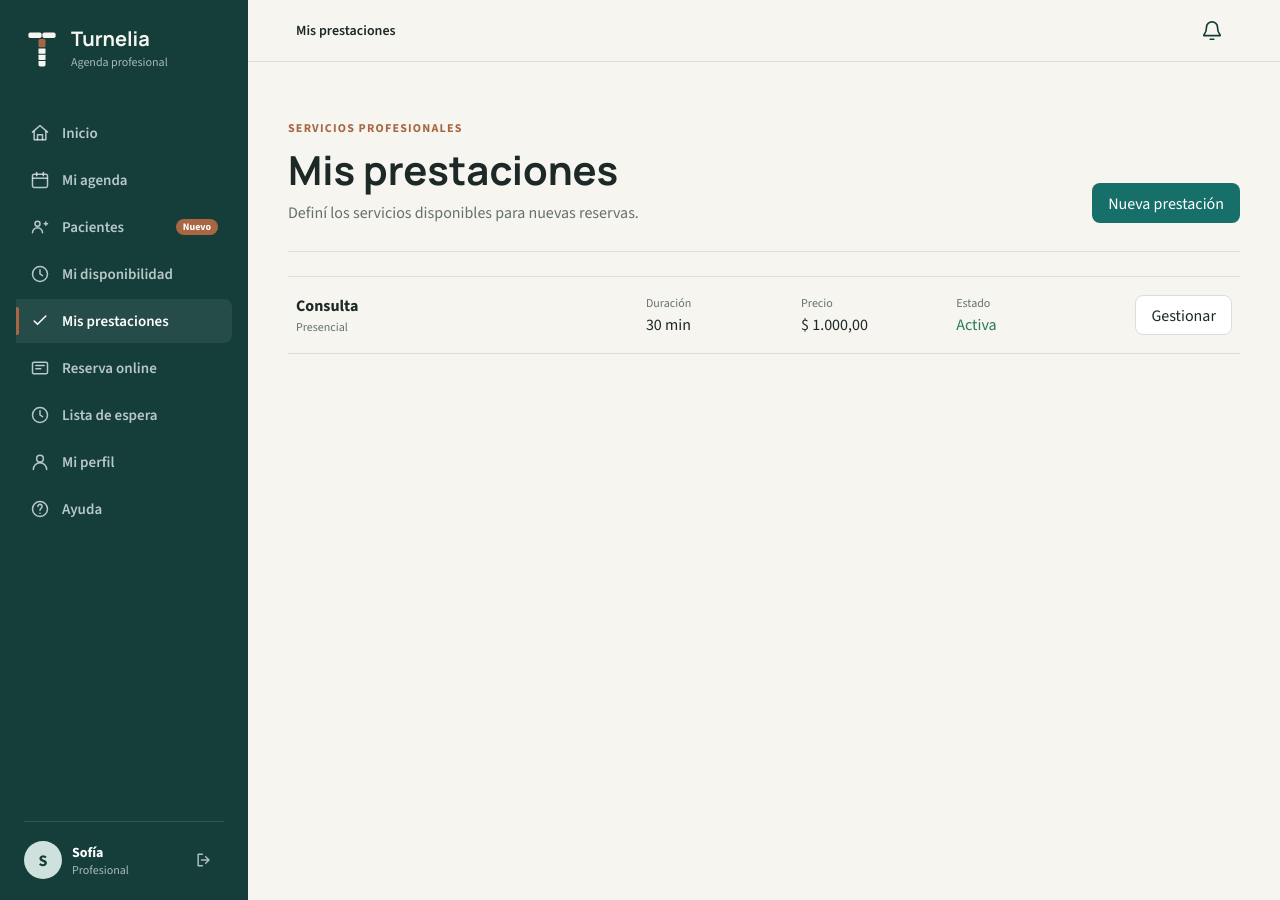
Test case: Mis prestaciones › bloquea doble submit
Expected: the text "Consulta" is shown, [296,295,358,316]
Click the button "Nueva prestación": (1166, 203) [1092,183,1240,223]
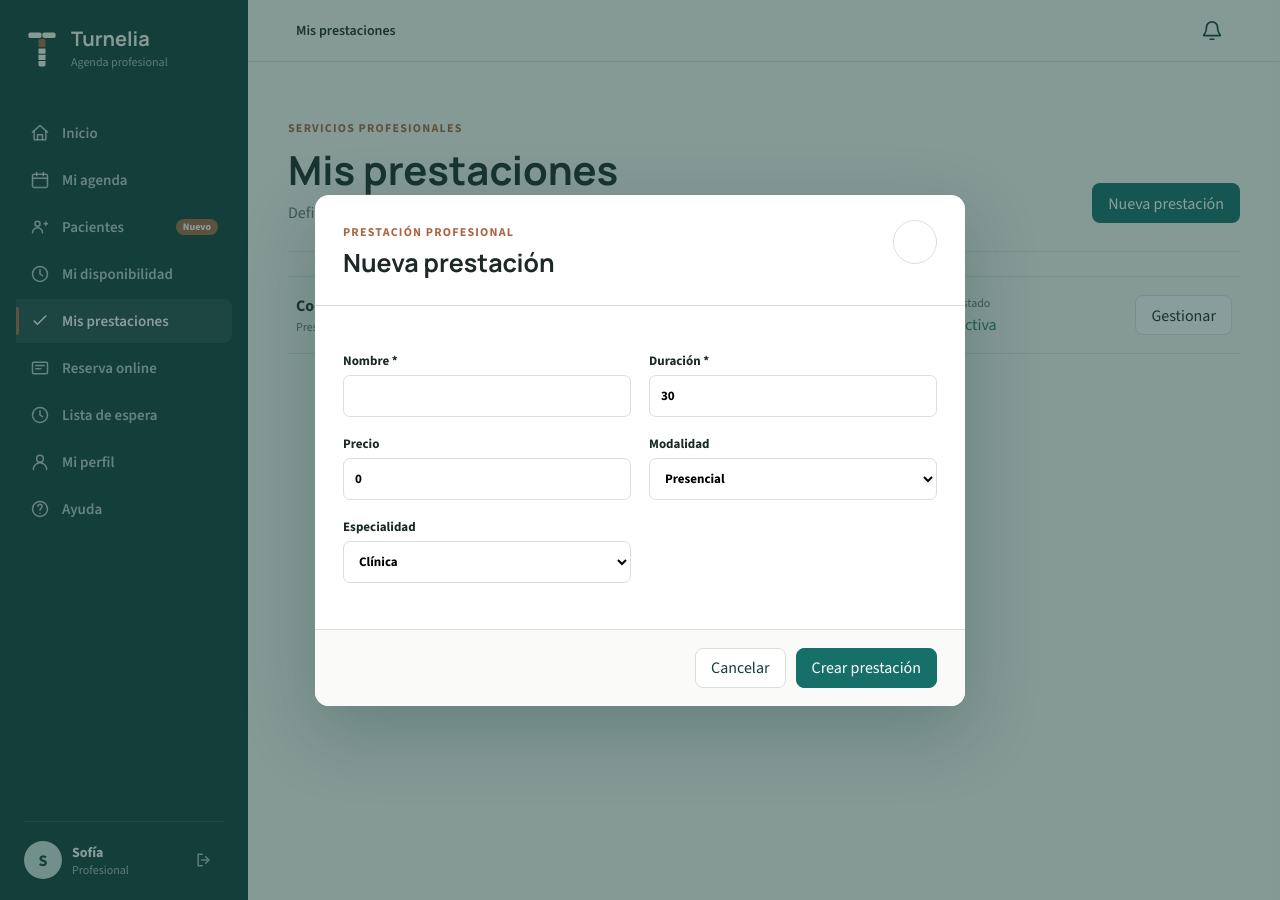
In the field labelled "Nombre *": (487, 396) [343,374,631,416], type "Control"
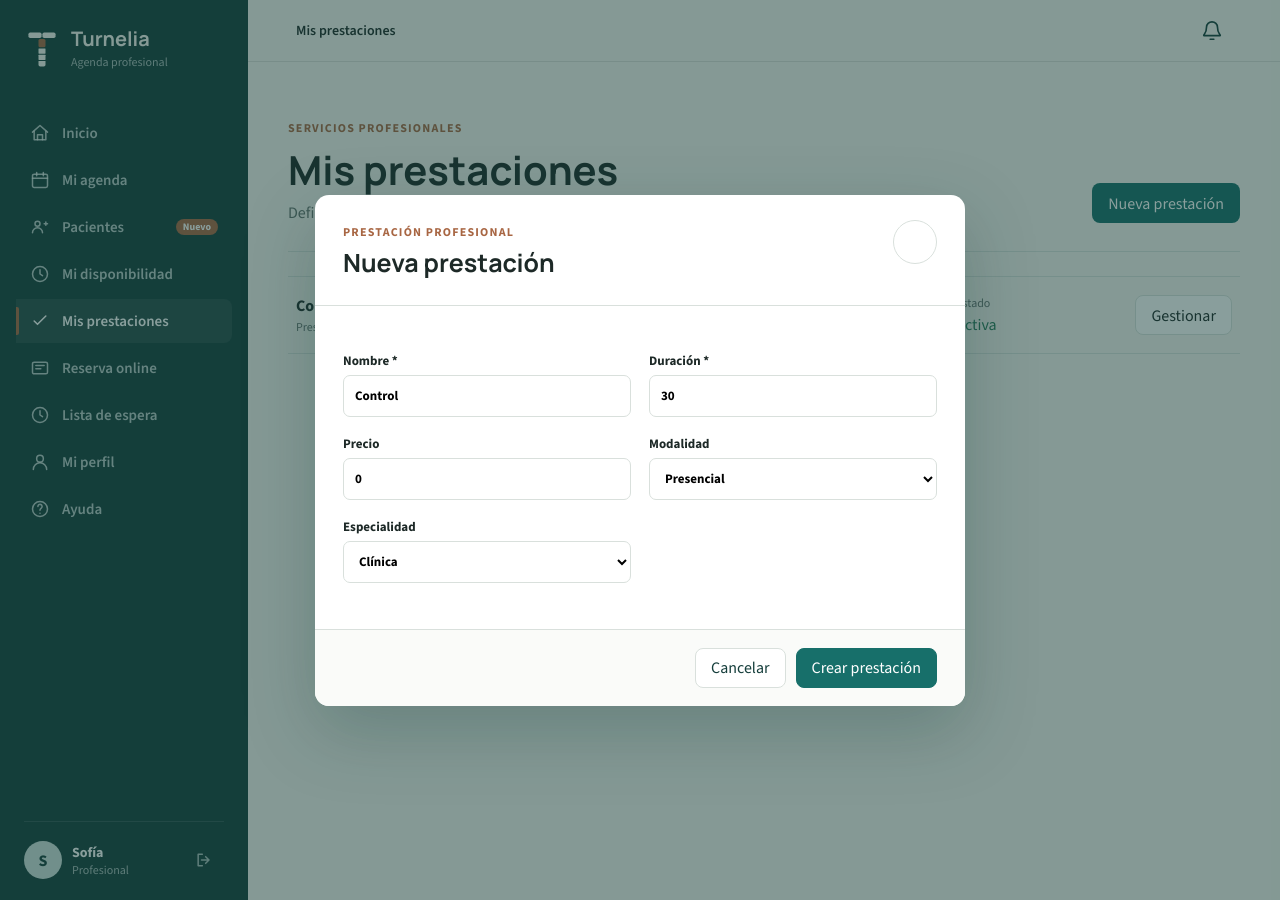
Click the button "Crear prestación": (866, 668) [796,648,937,688]
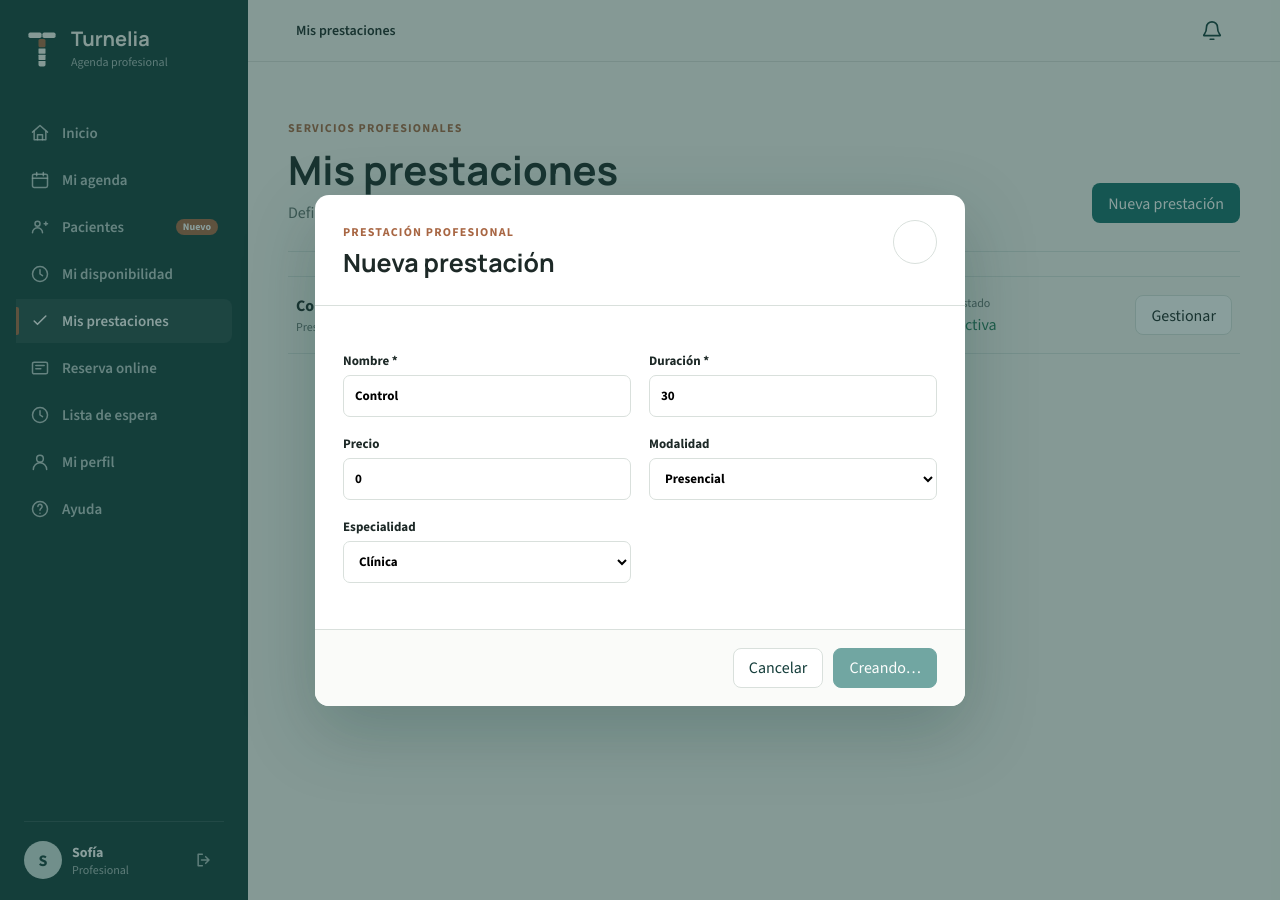
Now the button "Creando…" is disabled, box [833,648,937,688]
